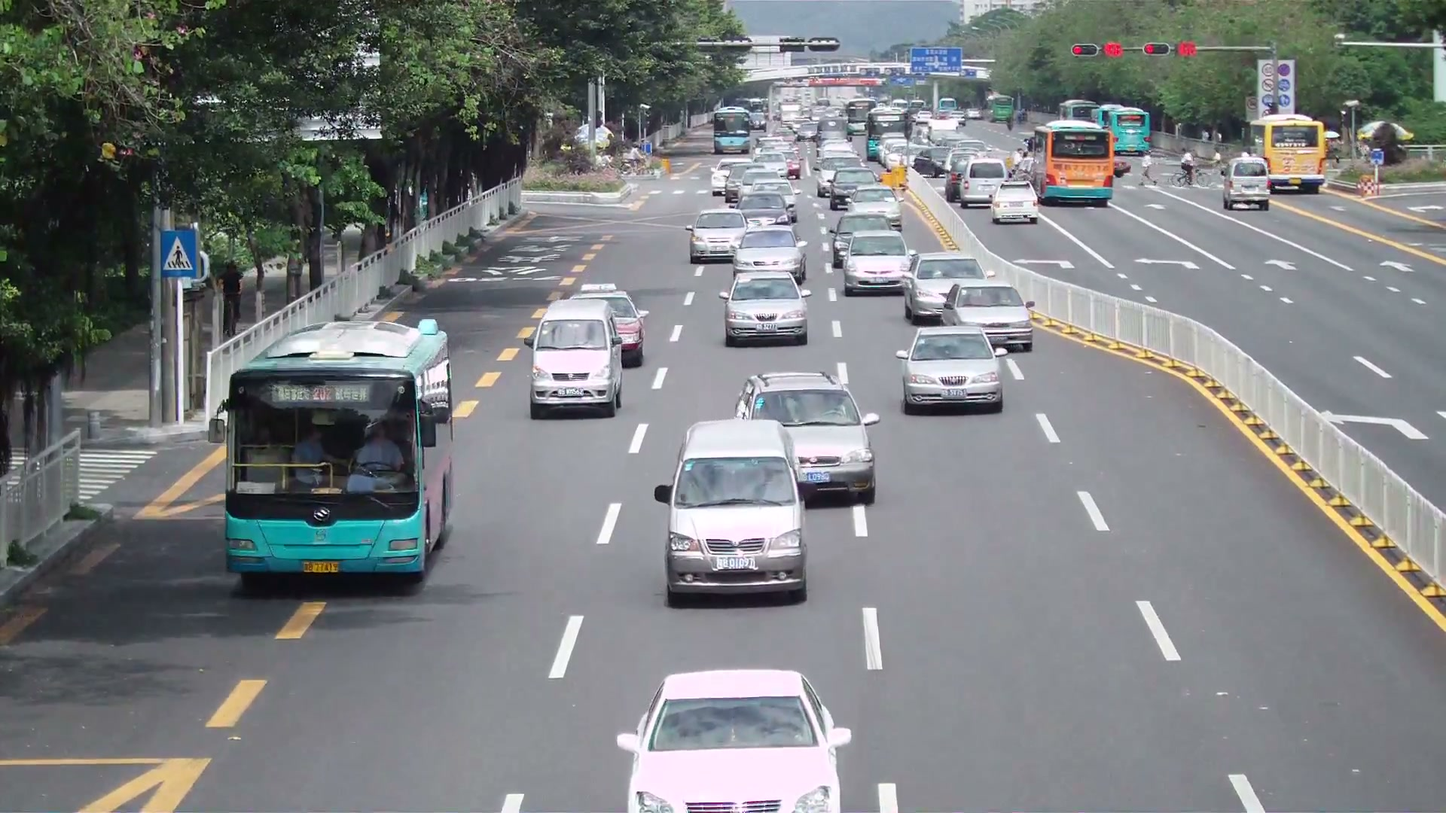bus: (214, 316, 457, 584), (1037, 118, 1115, 207), (1244, 113, 1330, 193), (1074, 103, 1152, 160)
car: (618, 669, 853, 811), (654, 417, 810, 607), (733, 368, 881, 509), (527, 308, 625, 419), (898, 324, 1005, 415), (554, 285, 648, 368), (722, 271, 810, 346), (947, 281, 1033, 353), (902, 252, 986, 325), (841, 228, 914, 295), (731, 227, 809, 289), (688, 208, 746, 263), (1221, 155, 1272, 210), (738, 186, 796, 227), (989, 179, 1040, 225)
pedestrian: (353, 418, 406, 472)
